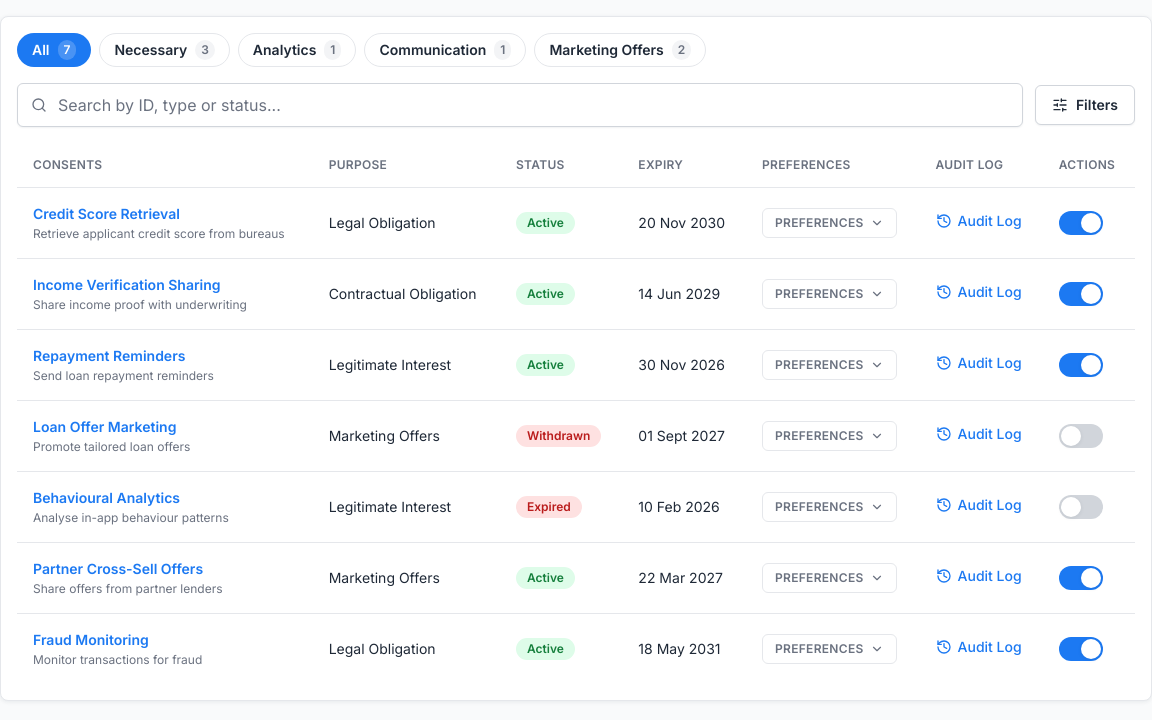
Test: ConsentDetail — legal consent withdrawal flow › cancelling leaves the permission unchanged and the toggle enabled
Click the switch named "Toggle Credit Score Retrieval": (1081, 222) [1059,210,1103,234]
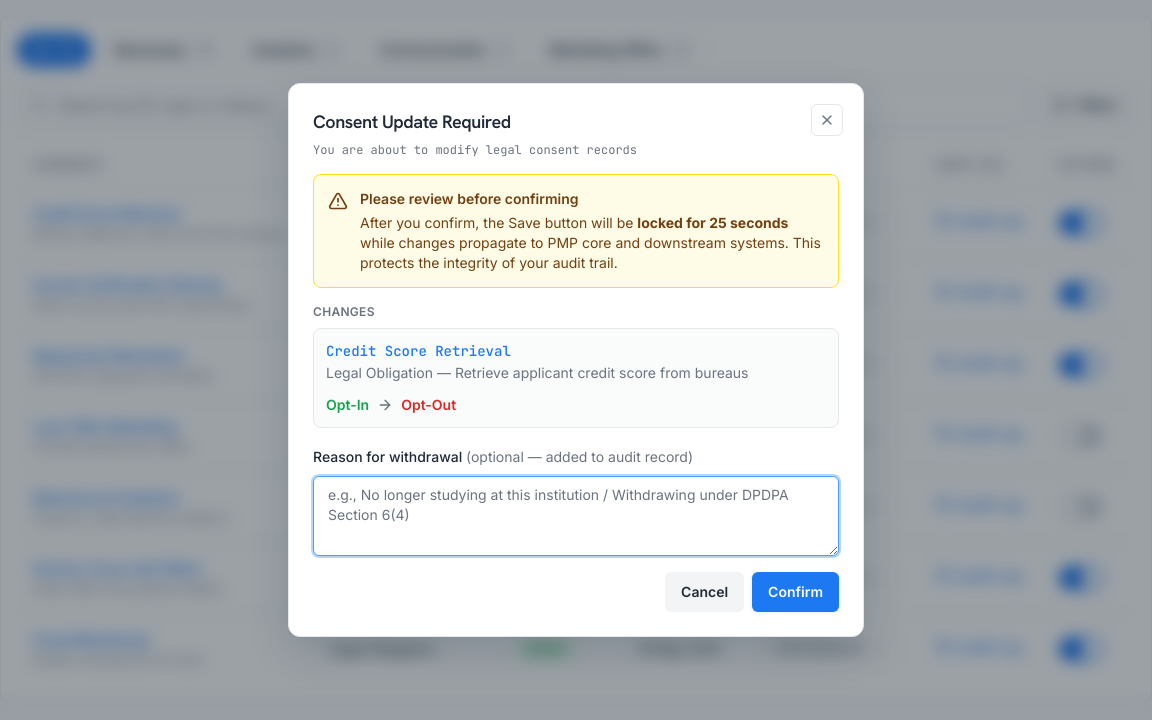
Click the button "Cancel": (705, 592) [665,572,744,612]
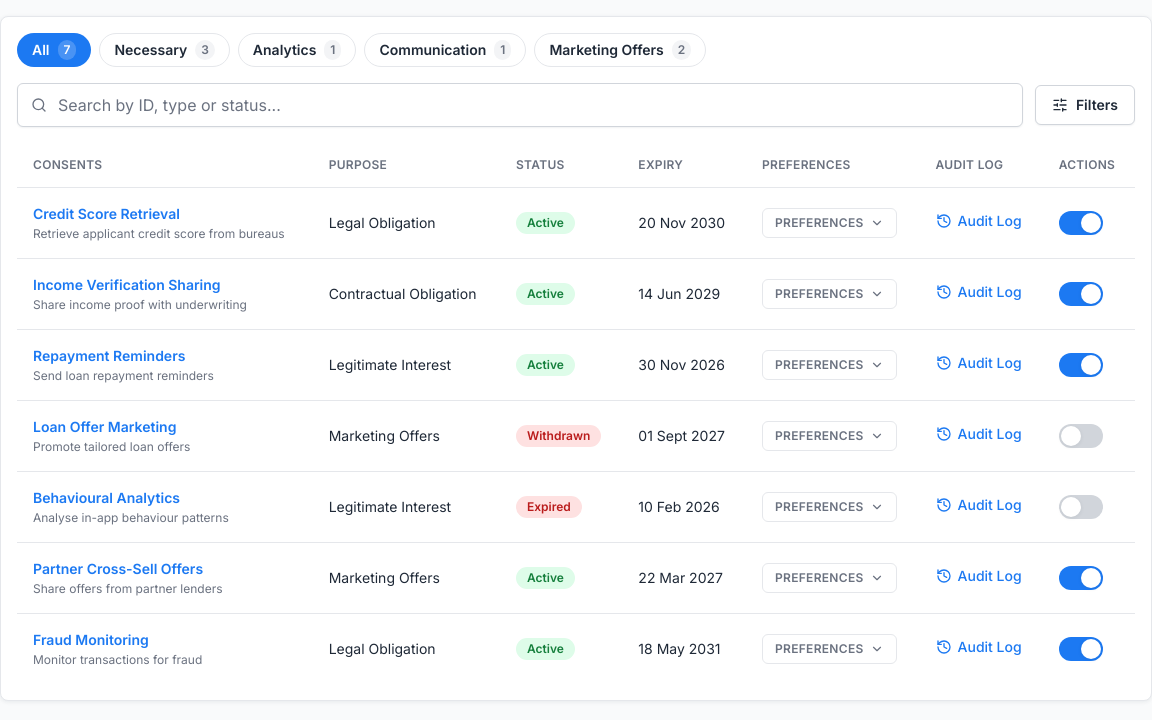
Now the heading "Consent Update Required" is gone
